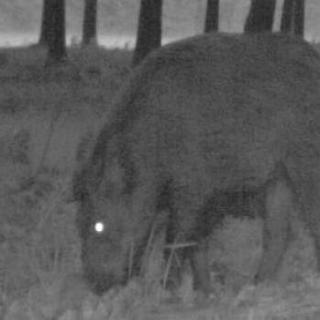Pig: (53, 21, 320, 299)
